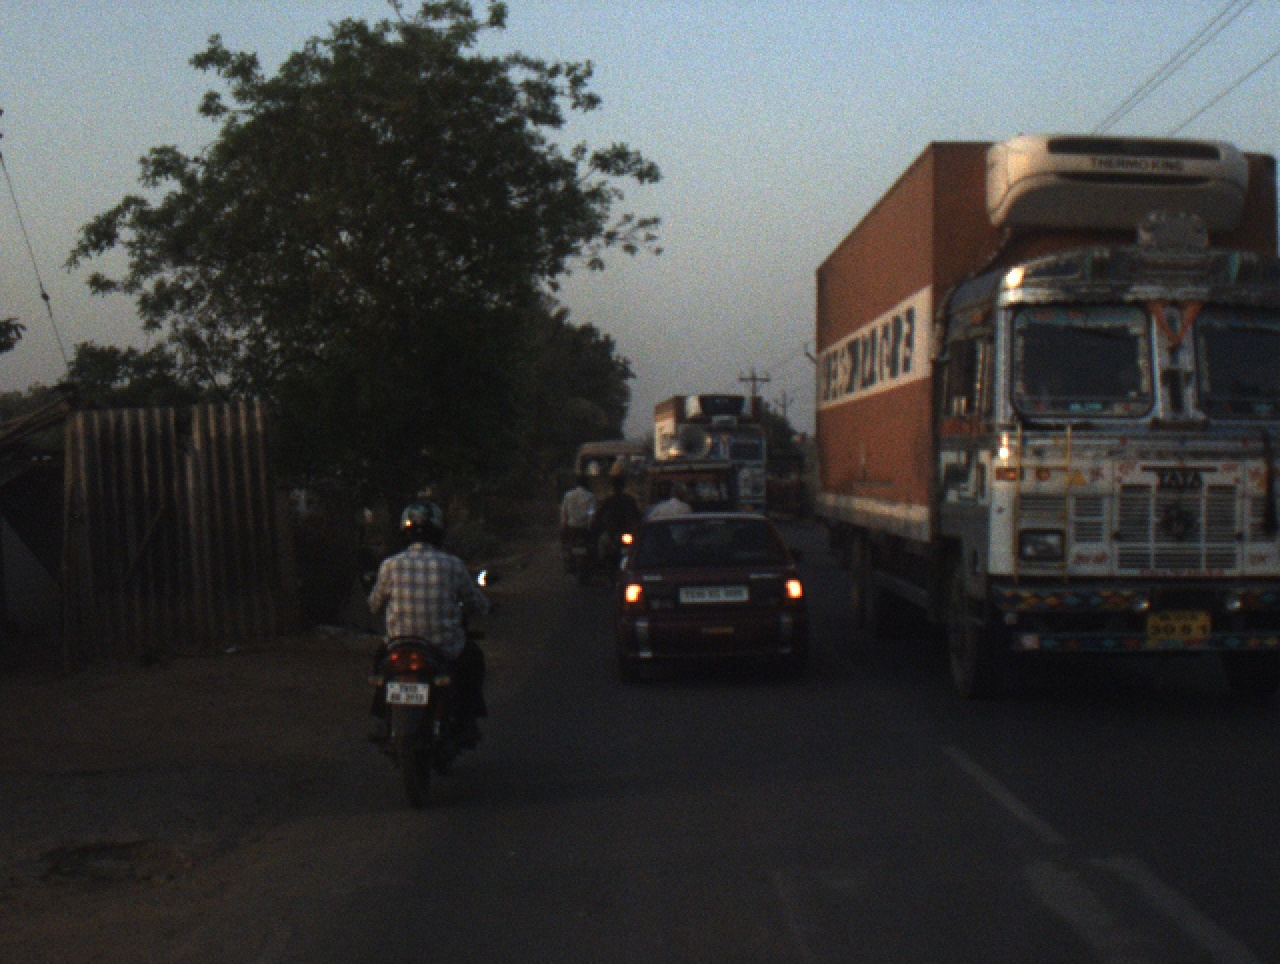autorickshaw: (767, 444, 809, 514)
car: (612, 519, 814, 679)
motorcycle: (354, 568, 505, 804), (557, 529, 602, 591), (595, 547, 618, 591)
rider: (364, 503, 491, 762), (593, 461, 642, 557), (554, 470, 597, 569), (647, 478, 694, 522)
truck: (788, 129, 1279, 726), (652, 395, 776, 518)
vehicle fallback: (575, 441, 655, 513)
